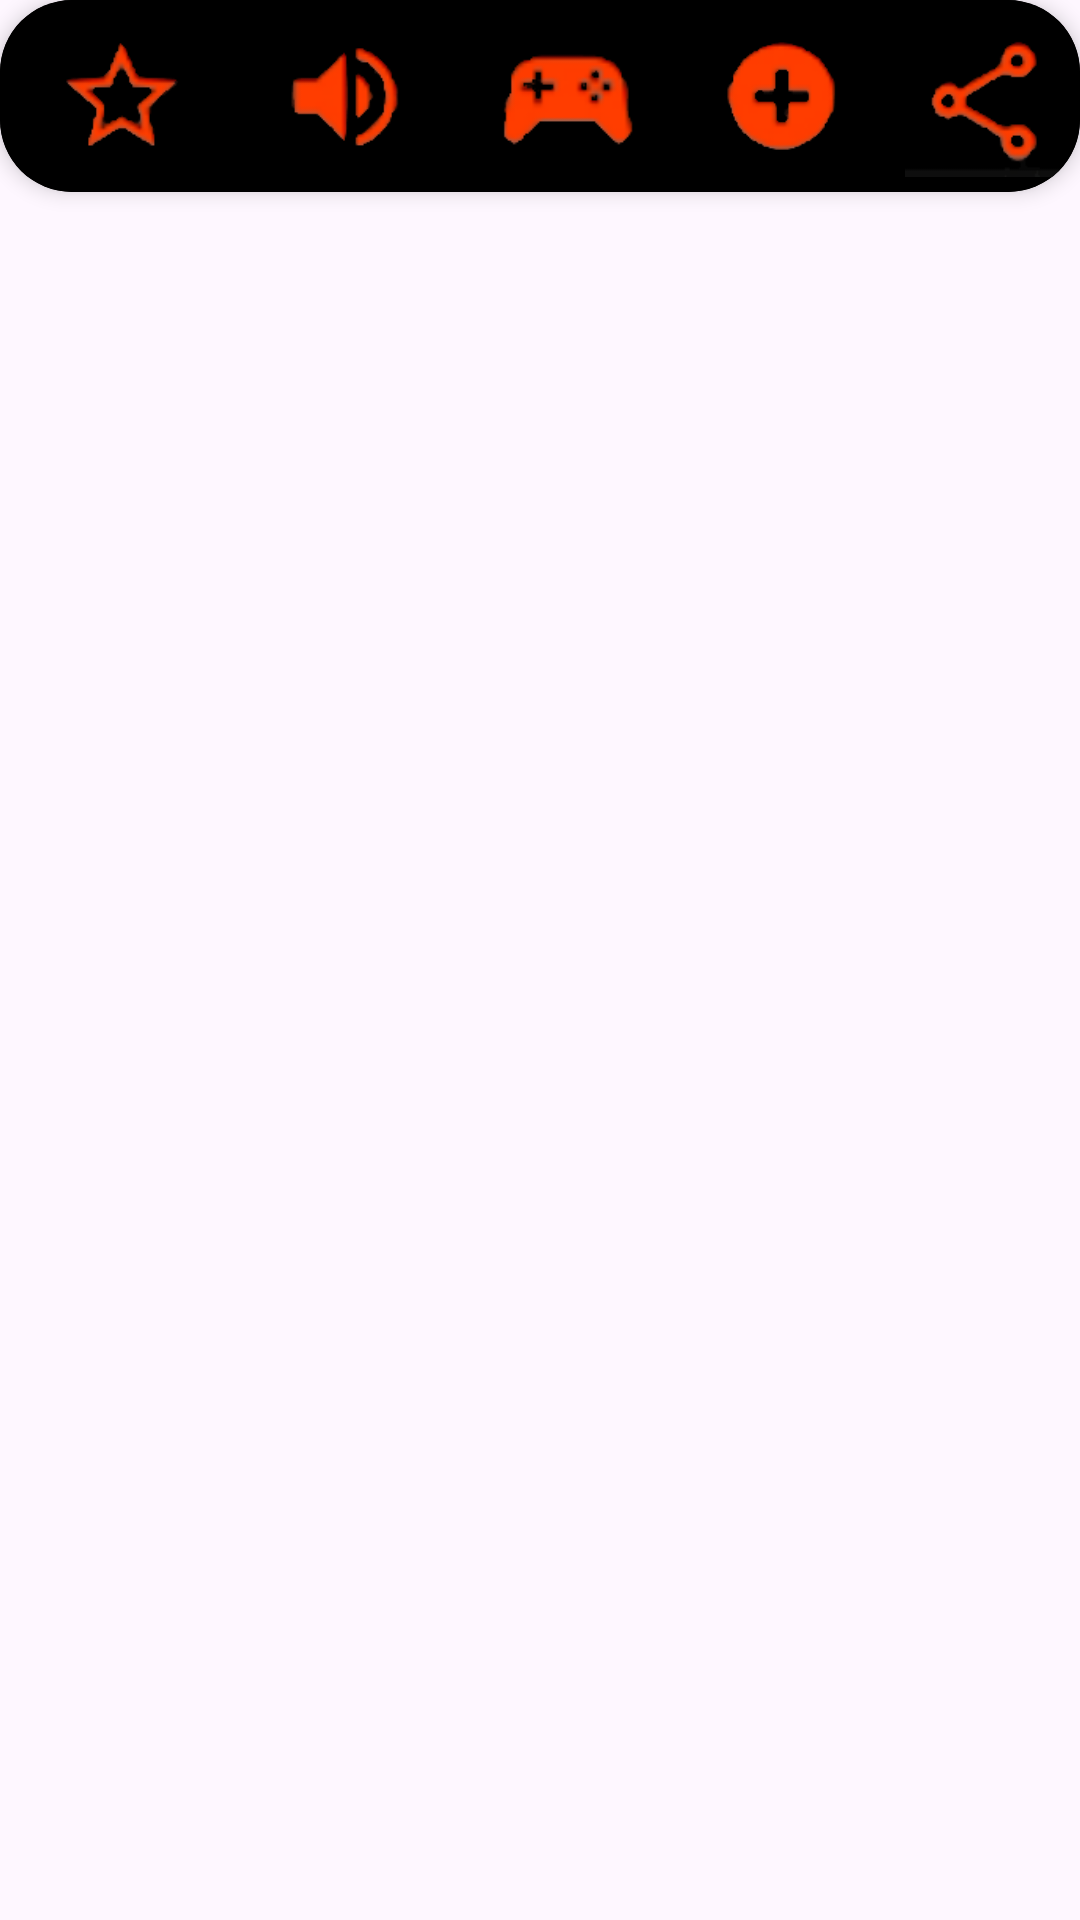

Named icons in this screenshot (1080*1920) and their centers, (x=x, y=y):
compartir: (x=984, y=101)
control: (x=568, y=100)
estrella: (x=121, y=94)
mas: (x=781, y=96)
volumen: (x=344, y=97)
